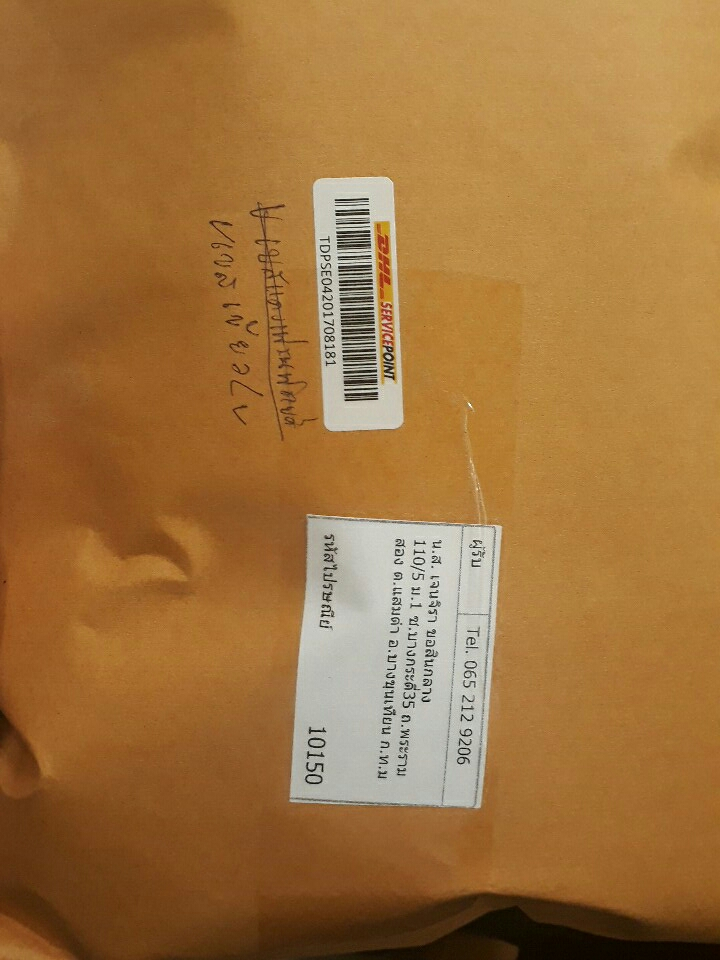ba: (302, 169, 415, 451)
txt: (302, 531, 492, 789)
